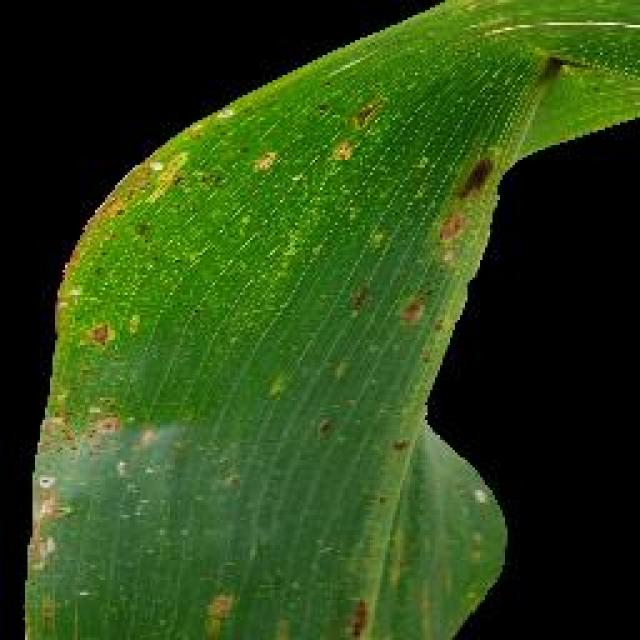Corn Common Rust: (103, 43, 580, 592)
